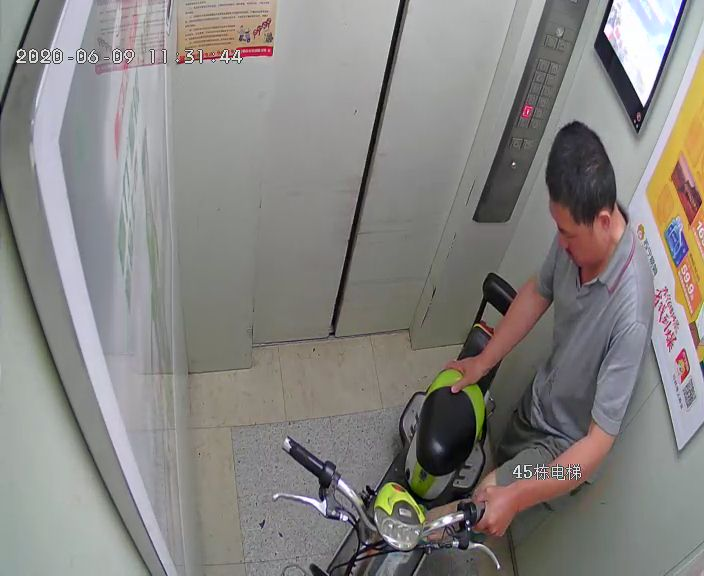Electric-bicycle: (348, 278, 518, 576)
